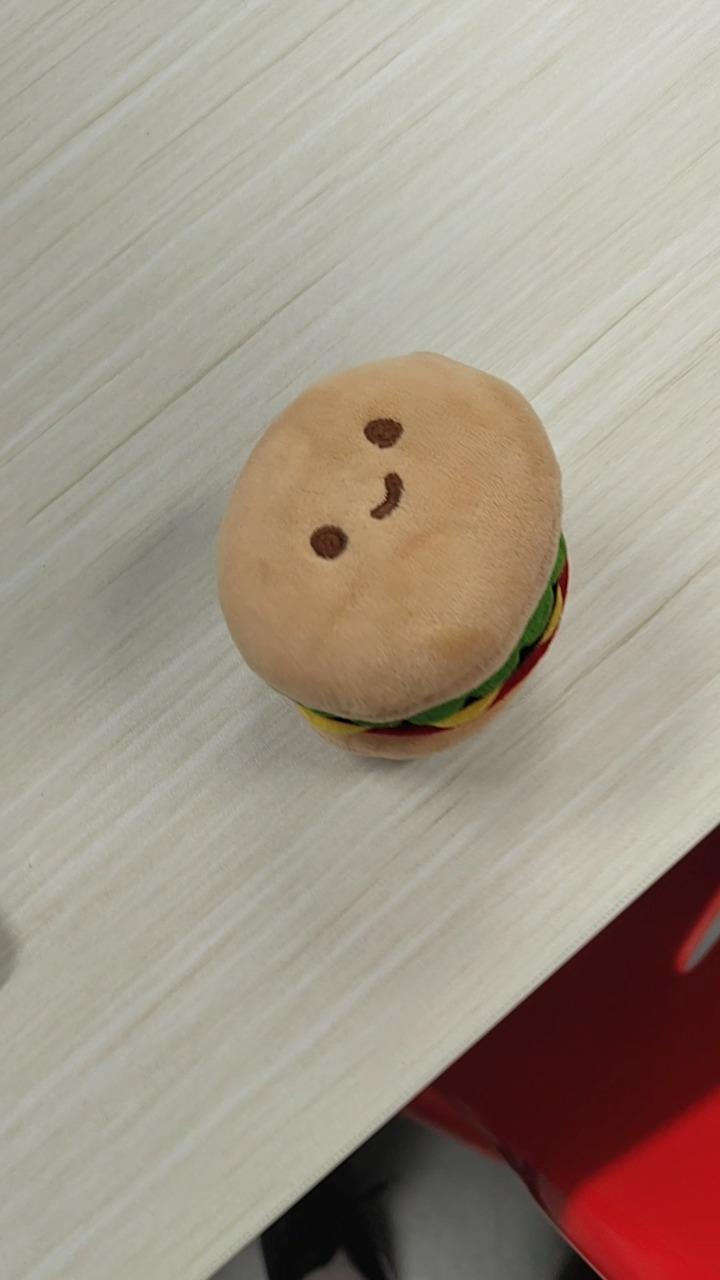hamburger: (214, 348, 571, 762)
